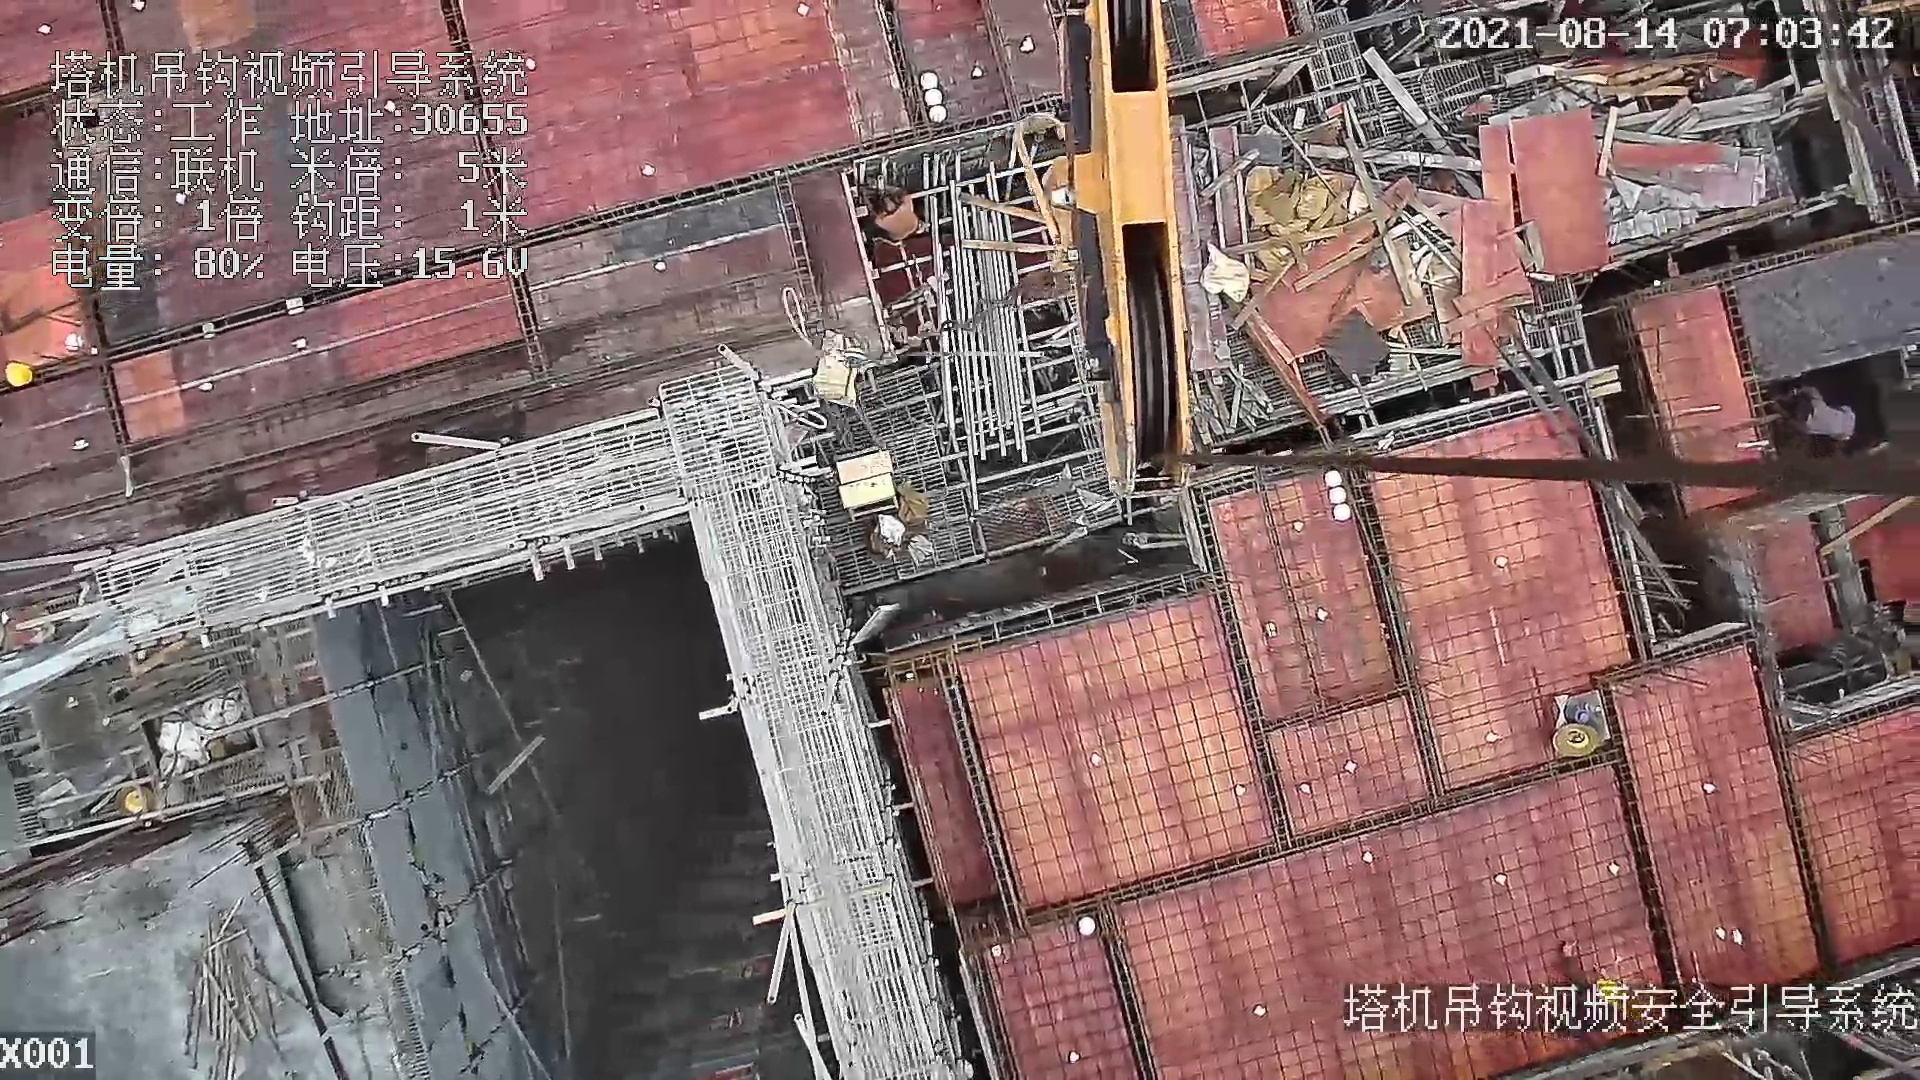helmet: (1, 361, 35, 390)
hook: (1013, 5, 1205, 509)
person: (860, 178, 922, 241)
